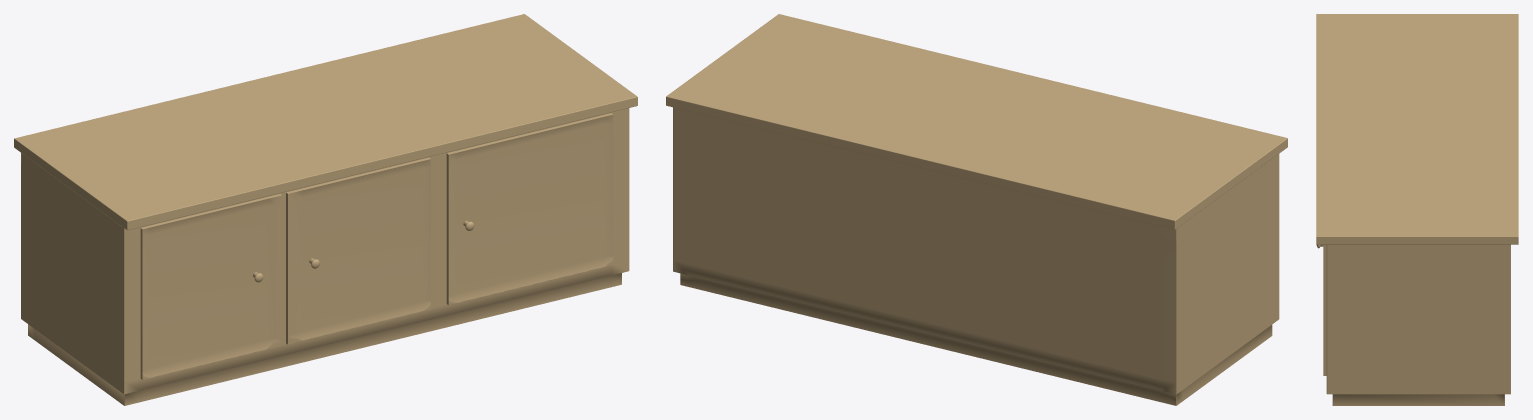
Rendered from kuecheMitte.fbx.
3 renders of one model, left to right at view 1: azimuth 30°, elevation 25°; view 2: azimuth 150°, elevation 25°; view 3: azimuth 270°, elevation 25°, orthographic. The views are drawn at different scales.
Visible parts, largest first — view 1: pCube1, pCube2; view 2: pCube1, pCube2; view 3: pCube2, pCube1.
Part boxes in pixels (x1=…): pCube1: x1=21, y1=108, x2=629, y2=405; pCube2: x1=14, y1=14, x2=637, y2=230; pCube1: x1=673, y1=107, x2=1279, y2=405; pCube2: x1=666, y1=14, x2=1287, y2=229; pCube2: x1=1316, y1=14, x2=1518, y2=244; pCube1: x1=1323, y1=244, x2=1510, y2=405.
Size of the model in its own units: 2.86 by 1.03 by 1.1.
